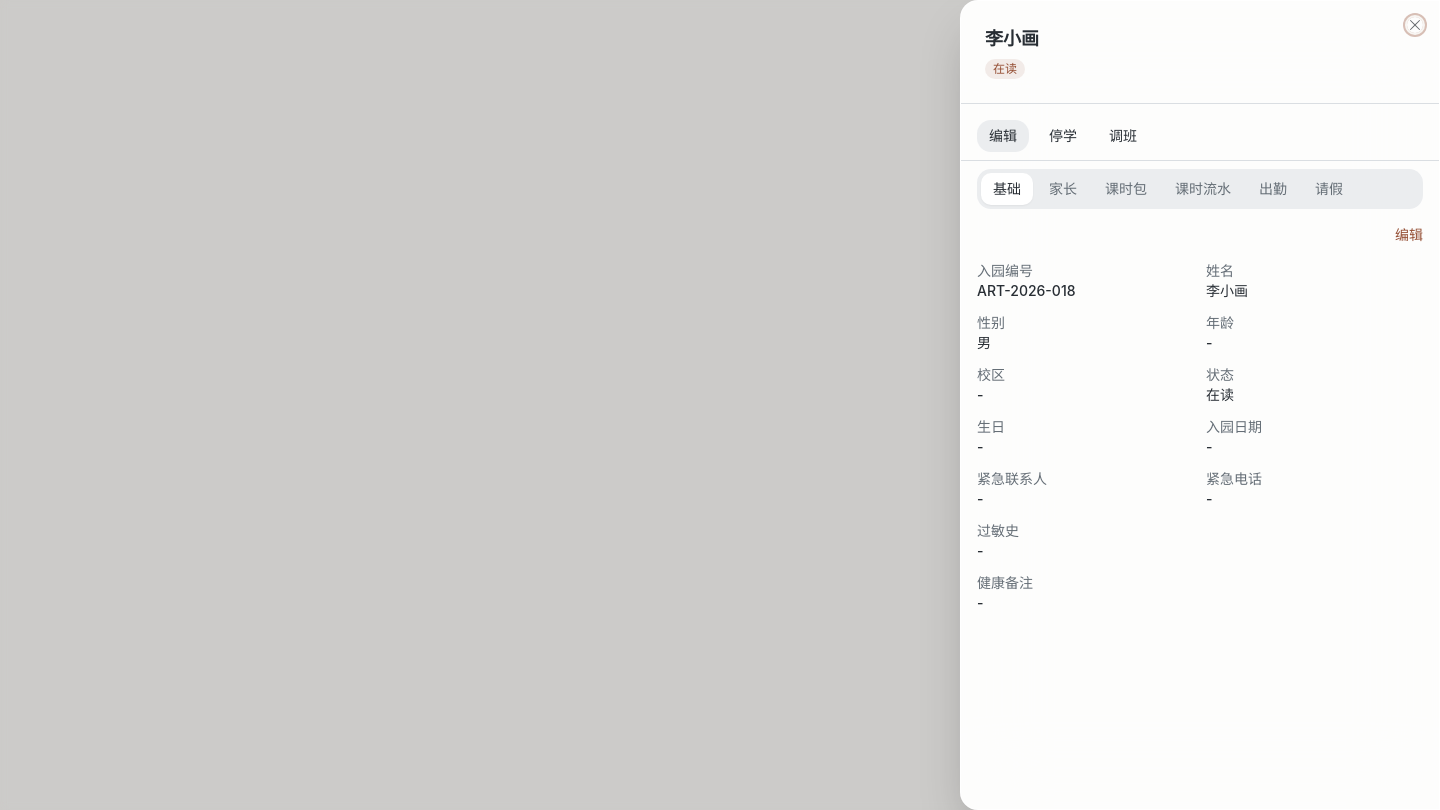
Test: StudentDetailSheet entry points › passes the loaded student ID to the leave tab
The width and height of the screenshot is (1440, 810).
Click the button "请假" at coordinates (1329, 189), box top-left (1303, 173), bottom-right (1355, 205)
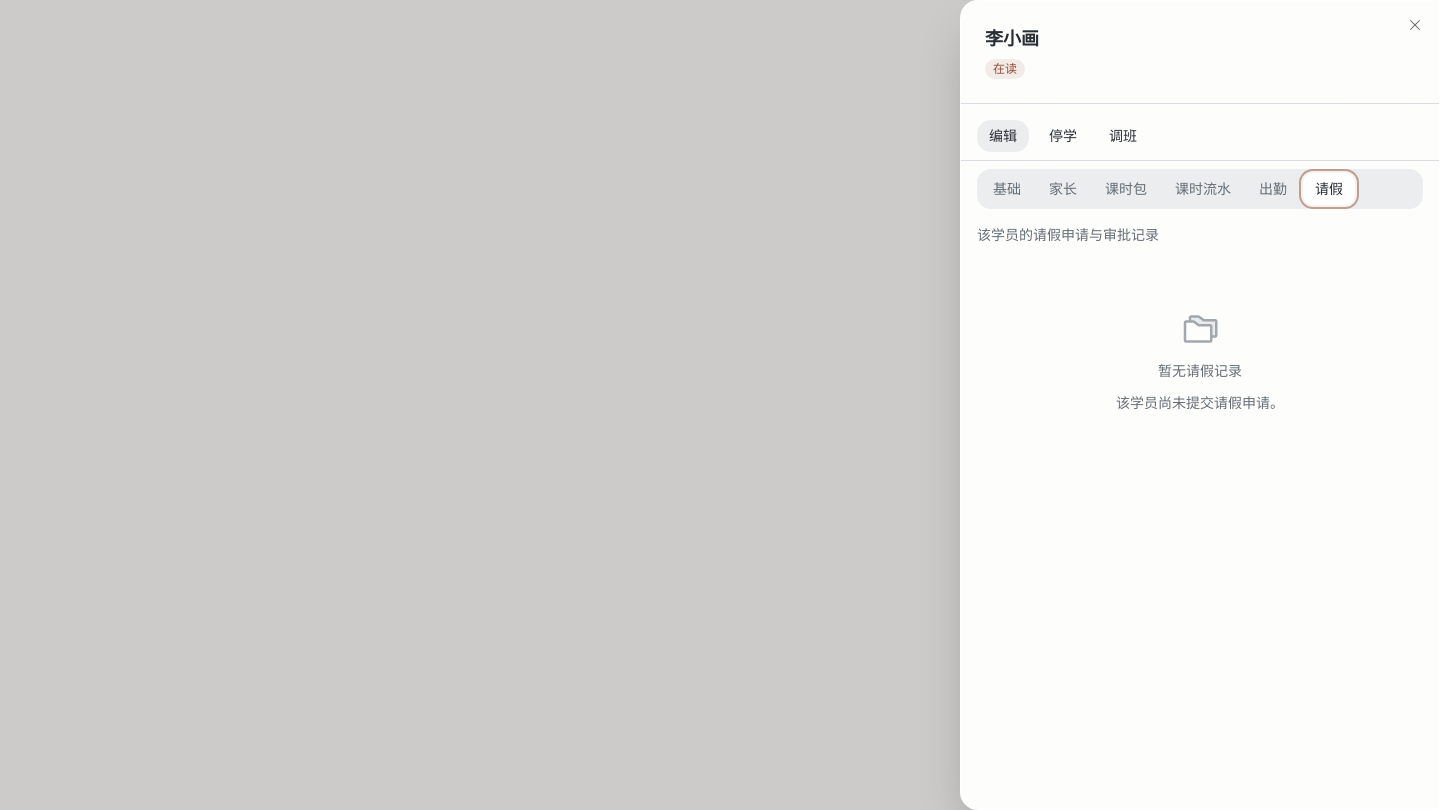
Expected: the heading "暂无请假记录" is shown, top-left (1158, 361), bottom-right (1242, 381)
